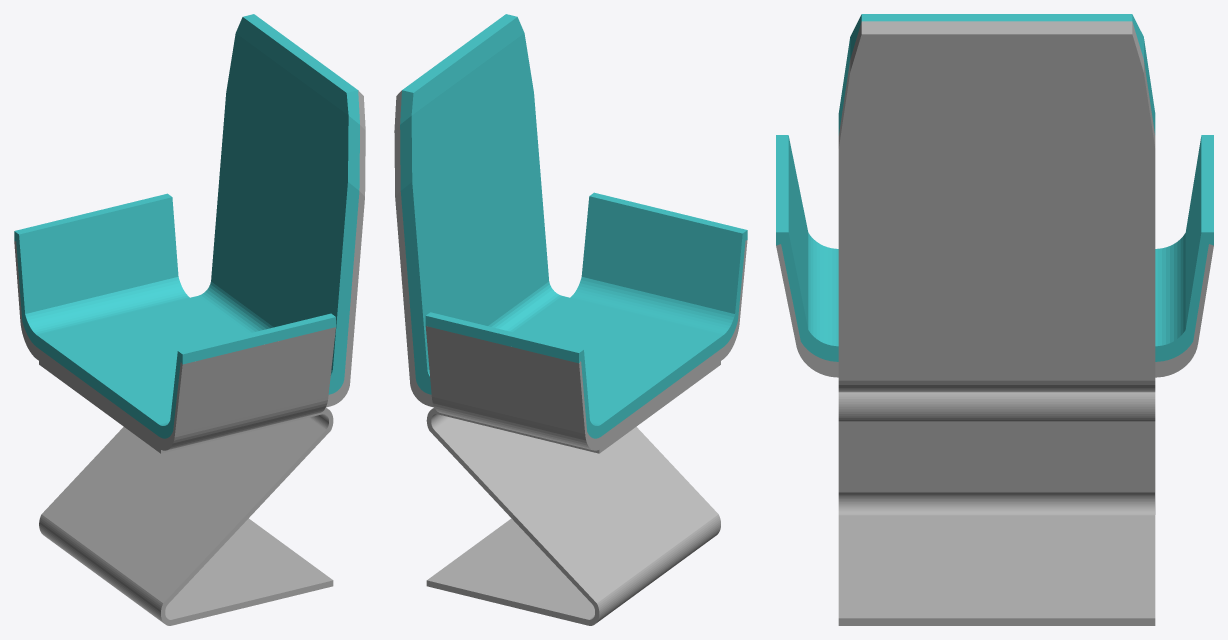
Rendered from fauteuil.fbx.
3 views of the same model, side by side, from view 1: azimuth 30°, elevation 25°; view 2: azimuth 150°, elevation 25°; view 3: azimuth 270°, elevation 25° (orthographic). The views are drawn at different scales.
Visible parts, largest first — view 1: Assise_Tissus, Pied, Assise_Métal; view 2: Assise_Tissus, Pied, Assise_Métal; view 3: Assise_Métal, Pied, Assise_Tissus.
Boxes of the visible parts, <box> form: Assise_Tissus: <box>14,14,359,438</box>; Pied: <box>39,361,333,625</box>; Assise_Métal: <box>14,90,365,450</box>; Assise_Tissus: <box>400,14,747,438</box>; Pied: <box>426,361,720,625</box>; Assise_Métal: <box>394,90,747,450</box>; Assise_Métal: <box>776,21,1213,392</box>; Pied: <box>838,392,1155,625</box>; Assise_Tissus: <box>776,14,1213,361</box>.
Size of the model in its own units: 55.84 by 120 by 76.06.
